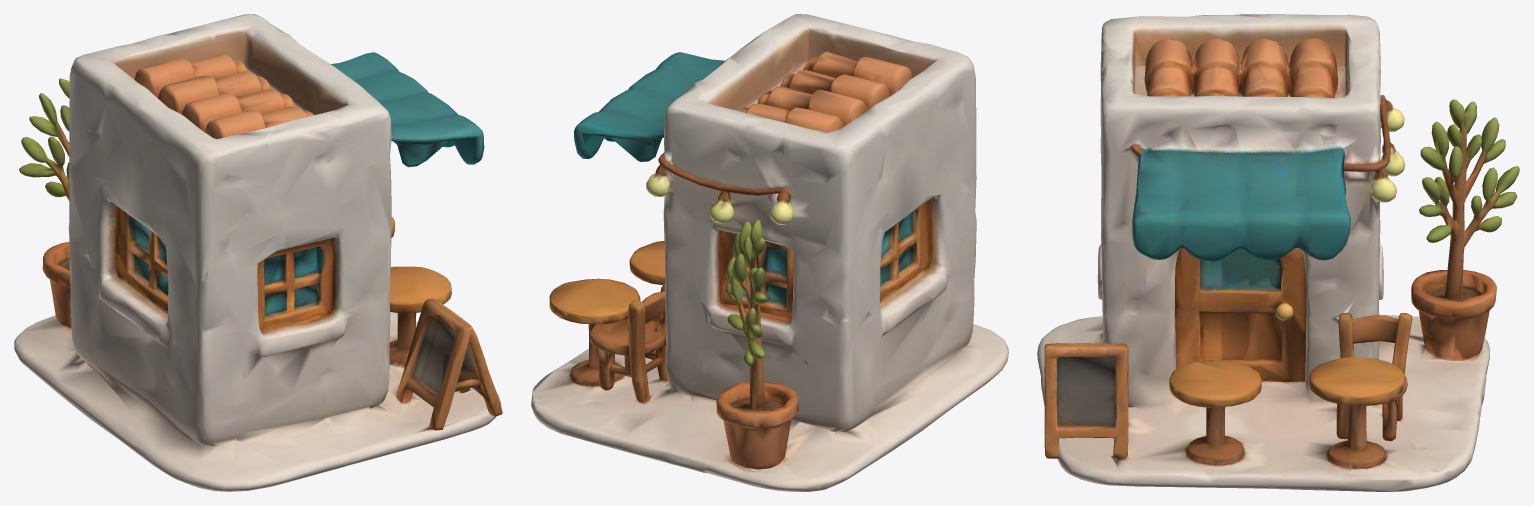
Rendered from cafe.glb.
3 views of the same model, side by side, from view 1: azimuth 30°, elevation 25°; view 2: azimuth 150°, elevation 25°; view 3: azimuth 270°, elevation 25° (orthographic). The views are drawn at different scales.
Parts seen in each view (by area): view 1: tripo_node_5a82a43b-f3ac-4799-b41b-179175b84cd5; view 2: tripo_node_5a82a43b-f3ac-4799-b41b-179175b84cd5; view 3: tripo_node_5a82a43b-f3ac-4799-b41b-179175b84cd5.
Boxes of the visible parts, box(x1,y1,x2,y2) form: tripo_node_5a82a43b-f3ac-4799-b41b-179175b84cd5: box(14, 14, 502, 491); tripo_node_5a82a43b-f3ac-4799-b41b-179175b84cd5: box(531, 14, 1008, 491); tripo_node_5a82a43b-f3ac-4799-b41b-179175b84cd5: box(1037, 14, 1519, 491).
Size of the model in its own units: 0.8322 by 0.7568 by 0.9993.
Materials: 1 (1 with a texture image).
